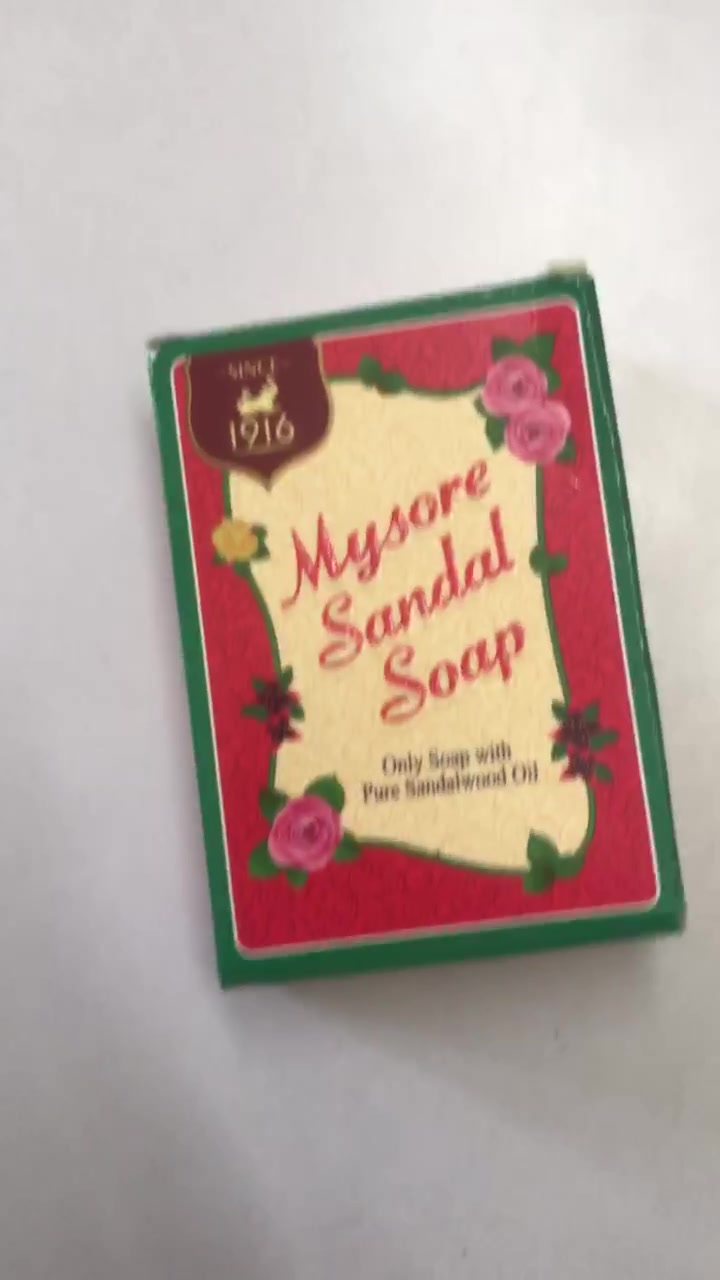mysore sandal soap: (159, 277, 685, 975)
